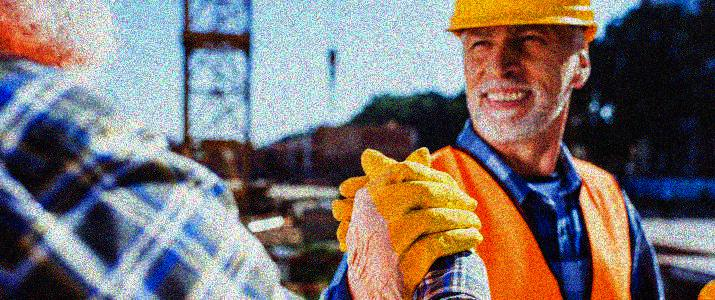helmet: (445, 1, 600, 139)
